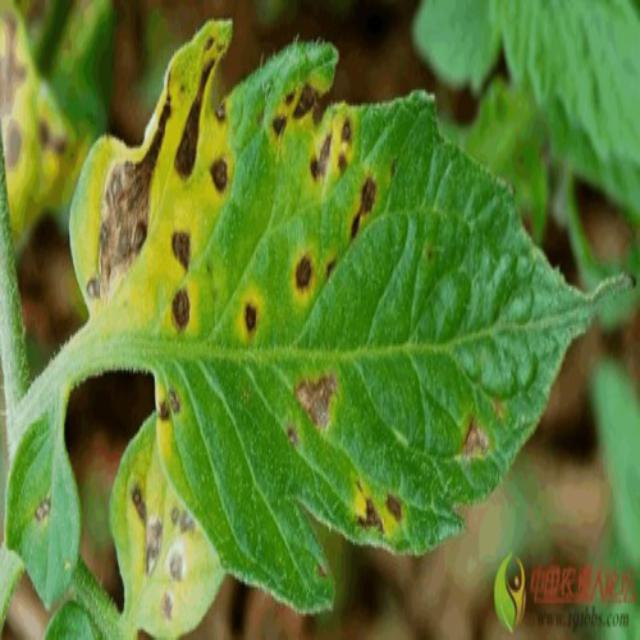Early_blight: (86, 77, 171, 304), (172, 50, 217, 186), (269, 79, 329, 139), (288, 370, 340, 433), (1, 10, 29, 122), (131, 481, 162, 581), (352, 481, 405, 536), (309, 120, 354, 183), (349, 177, 378, 242), (457, 413, 491, 463), (152, 379, 183, 423), (34, 118, 67, 158), (169, 225, 194, 277), (171, 283, 194, 334), (167, 539, 191, 585), (291, 256, 315, 299), (208, 156, 234, 194), (5, 121, 24, 172), (240, 297, 262, 341), (170, 503, 197, 536), (158, 589, 175, 623), (32, 497, 53, 524)
